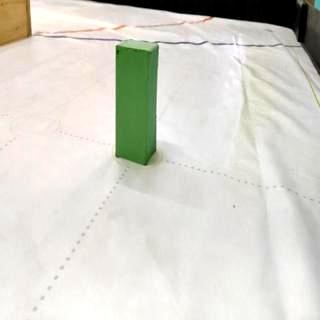greenbox: (114, 38, 160, 166)
